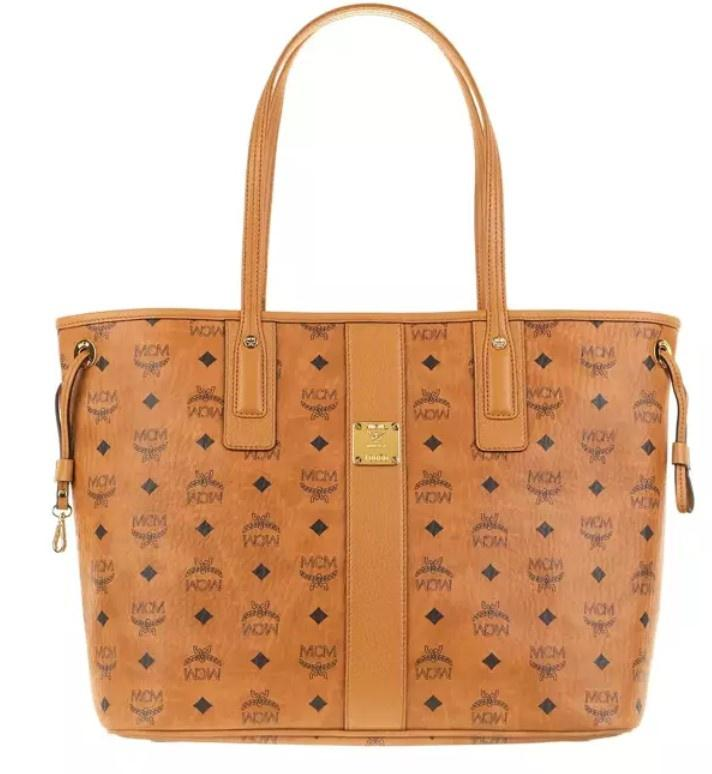MCM: (58, 303, 665, 751)
